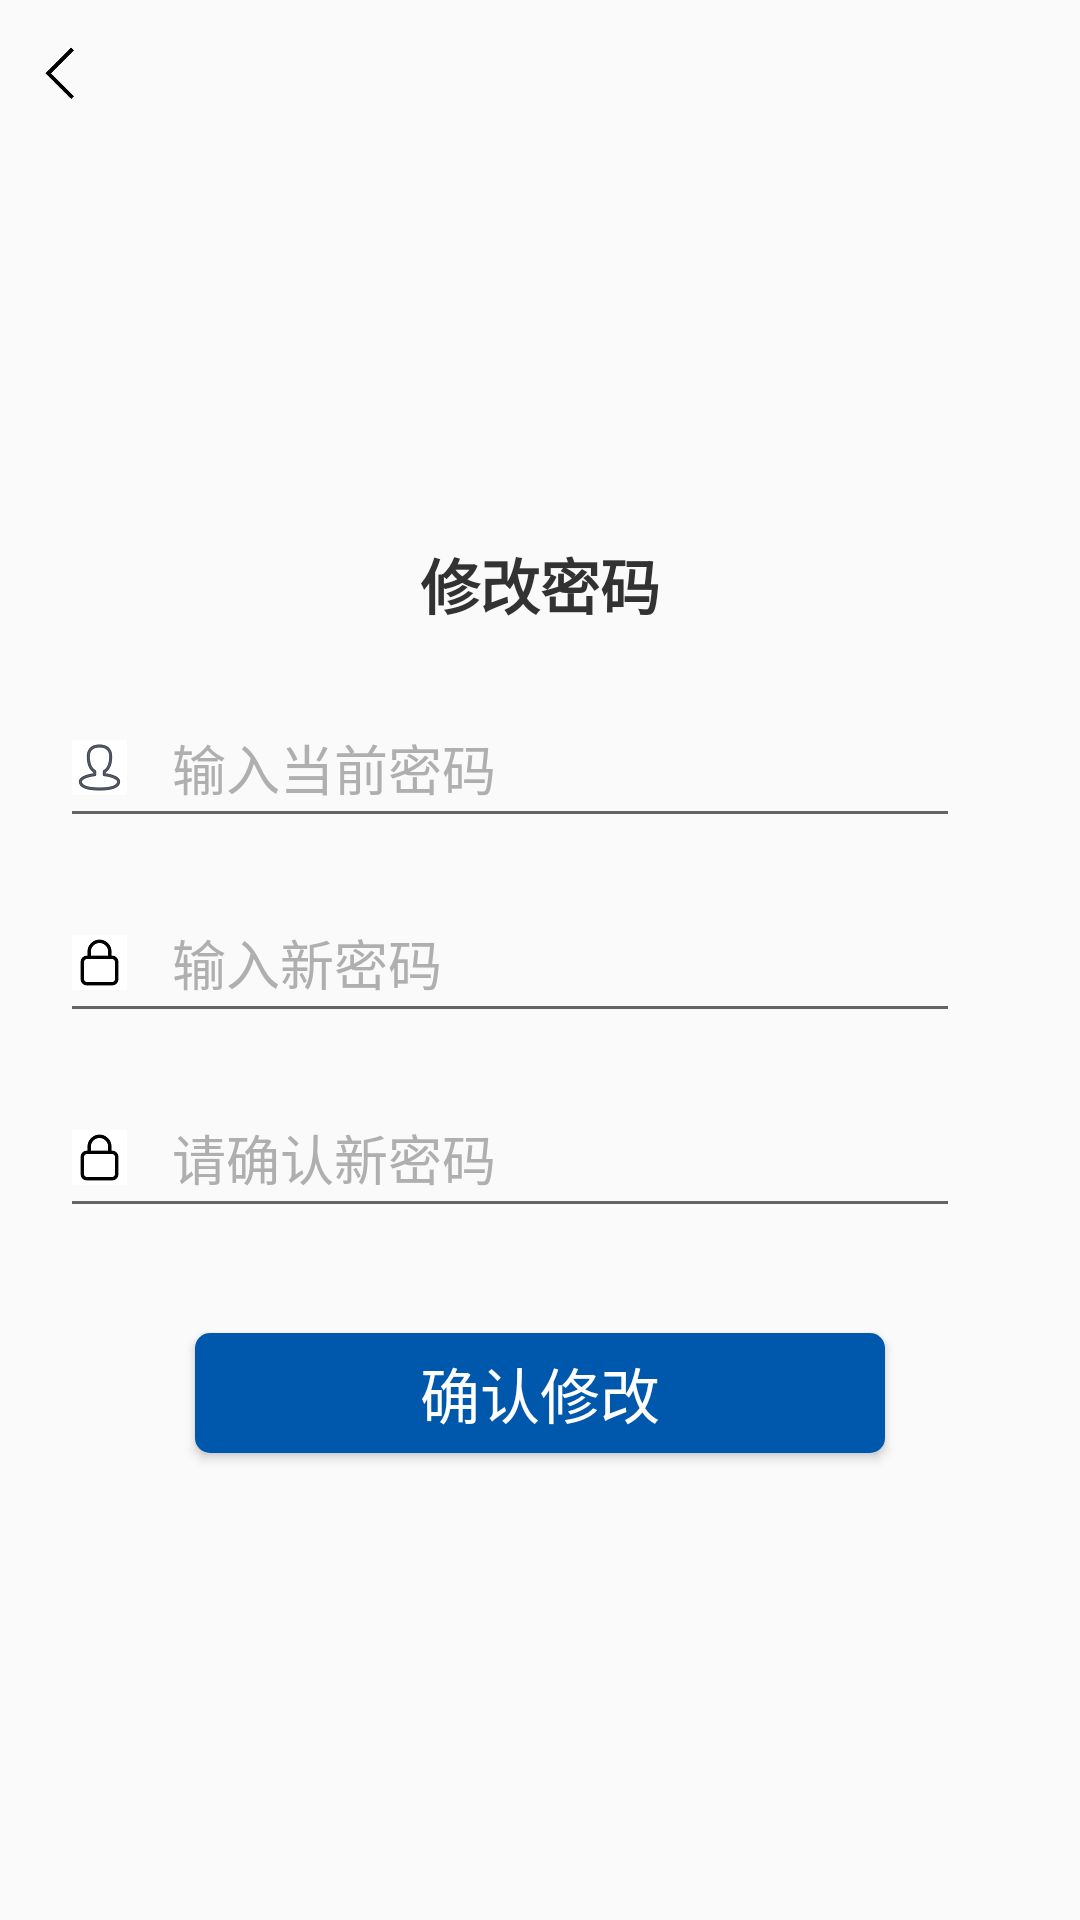

Named icons in this screenshot (1080x1920) and their bounding boxes, (x1, y1, x2, y2):
return: (45, 48, 74, 99)
